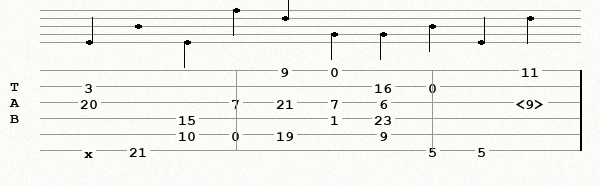0: (231, 128, 244, 141), (330, 64, 343, 77), (428, 80, 441, 93)
1: (330, 112, 343, 125)
10: (178, 128, 200, 141)
11: (521, 64, 543, 77)
15: (178, 112, 200, 125)
16: (374, 80, 396, 93)
19: (276, 128, 298, 141)
20: (80, 96, 102, 109)
21: (129, 144, 151, 157), (276, 96, 298, 109)
23: (374, 112, 396, 125)
3: (84, 80, 97, 93)
5: (428, 144, 441, 157), (477, 144, 490, 157)
6: (379, 96, 392, 109)
7: (231, 96, 244, 109), (330, 96, 343, 109)
9: (280, 64, 293, 77), (379, 128, 392, 141)
harmonic: (516, 96, 549, 109)
x: (84, 145, 97, 155)
